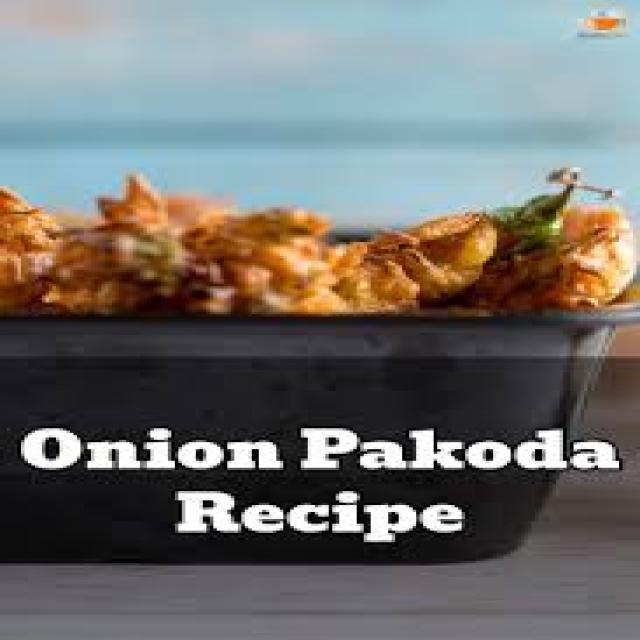BAJI: (0, 188, 637, 319)
